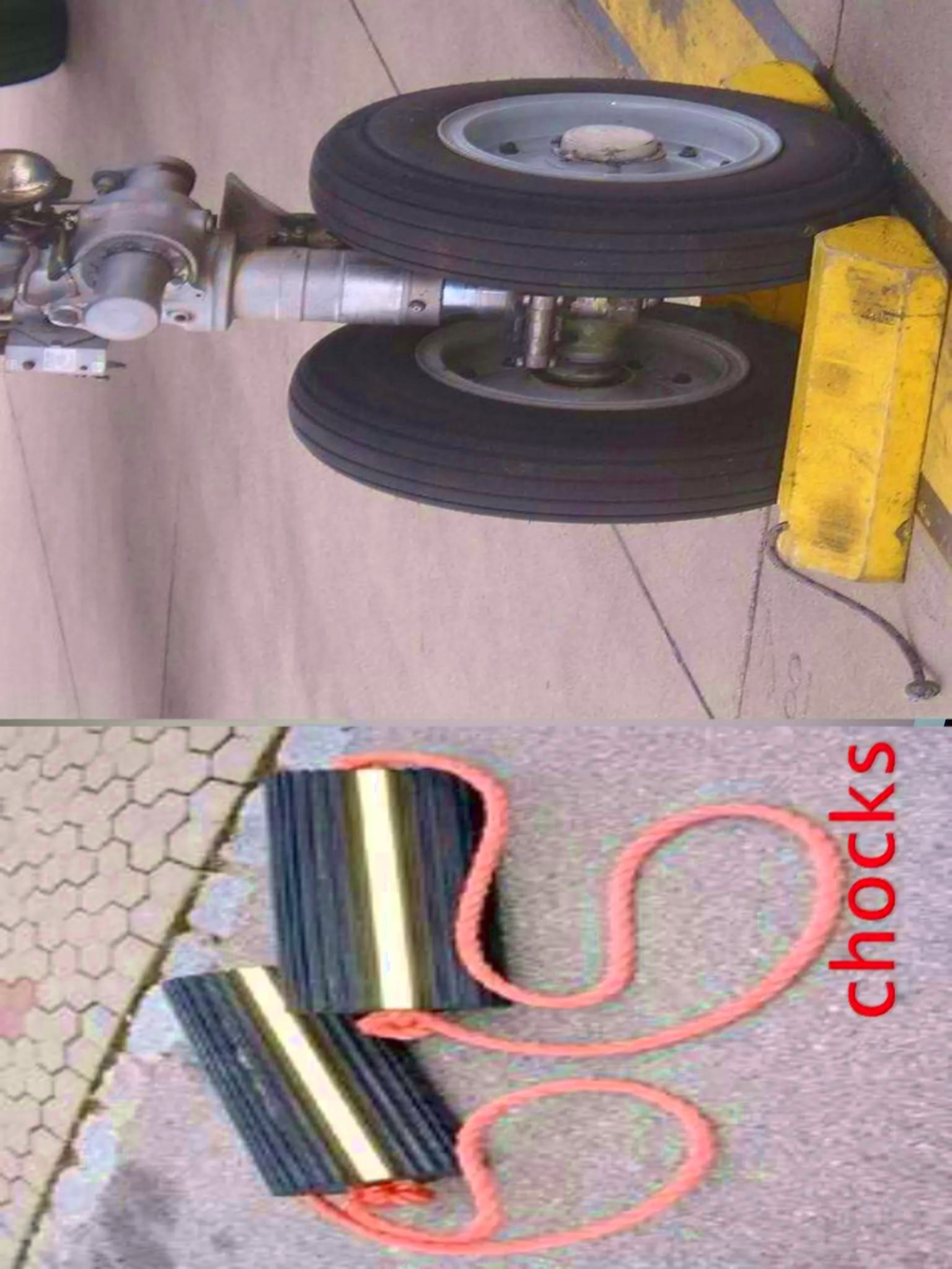chock: (159, 960, 461, 1200), (761, 209, 940, 589), (265, 751, 509, 1017)
wheel: (312, 77, 894, 296), (288, 305, 806, 527), (0, 4, 65, 90)
